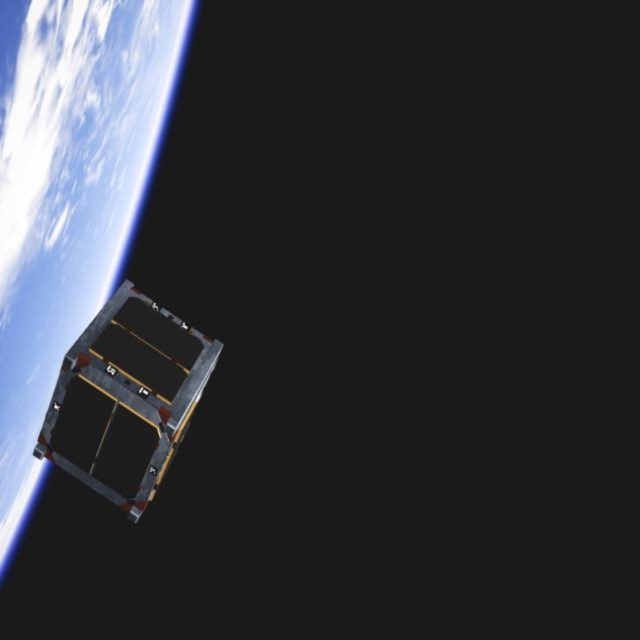satellite: (24, 271, 227, 523)
